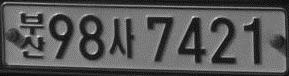1: (241, 17, 268, 64)
2: (209, 16, 237, 64)
4: (177, 16, 206, 63)
7: (146, 15, 173, 62)
8: (78, 14, 105, 60)
9: (48, 13, 74, 58)
부산_V: (19, 12, 46, 58)
사: (108, 17, 134, 58)
